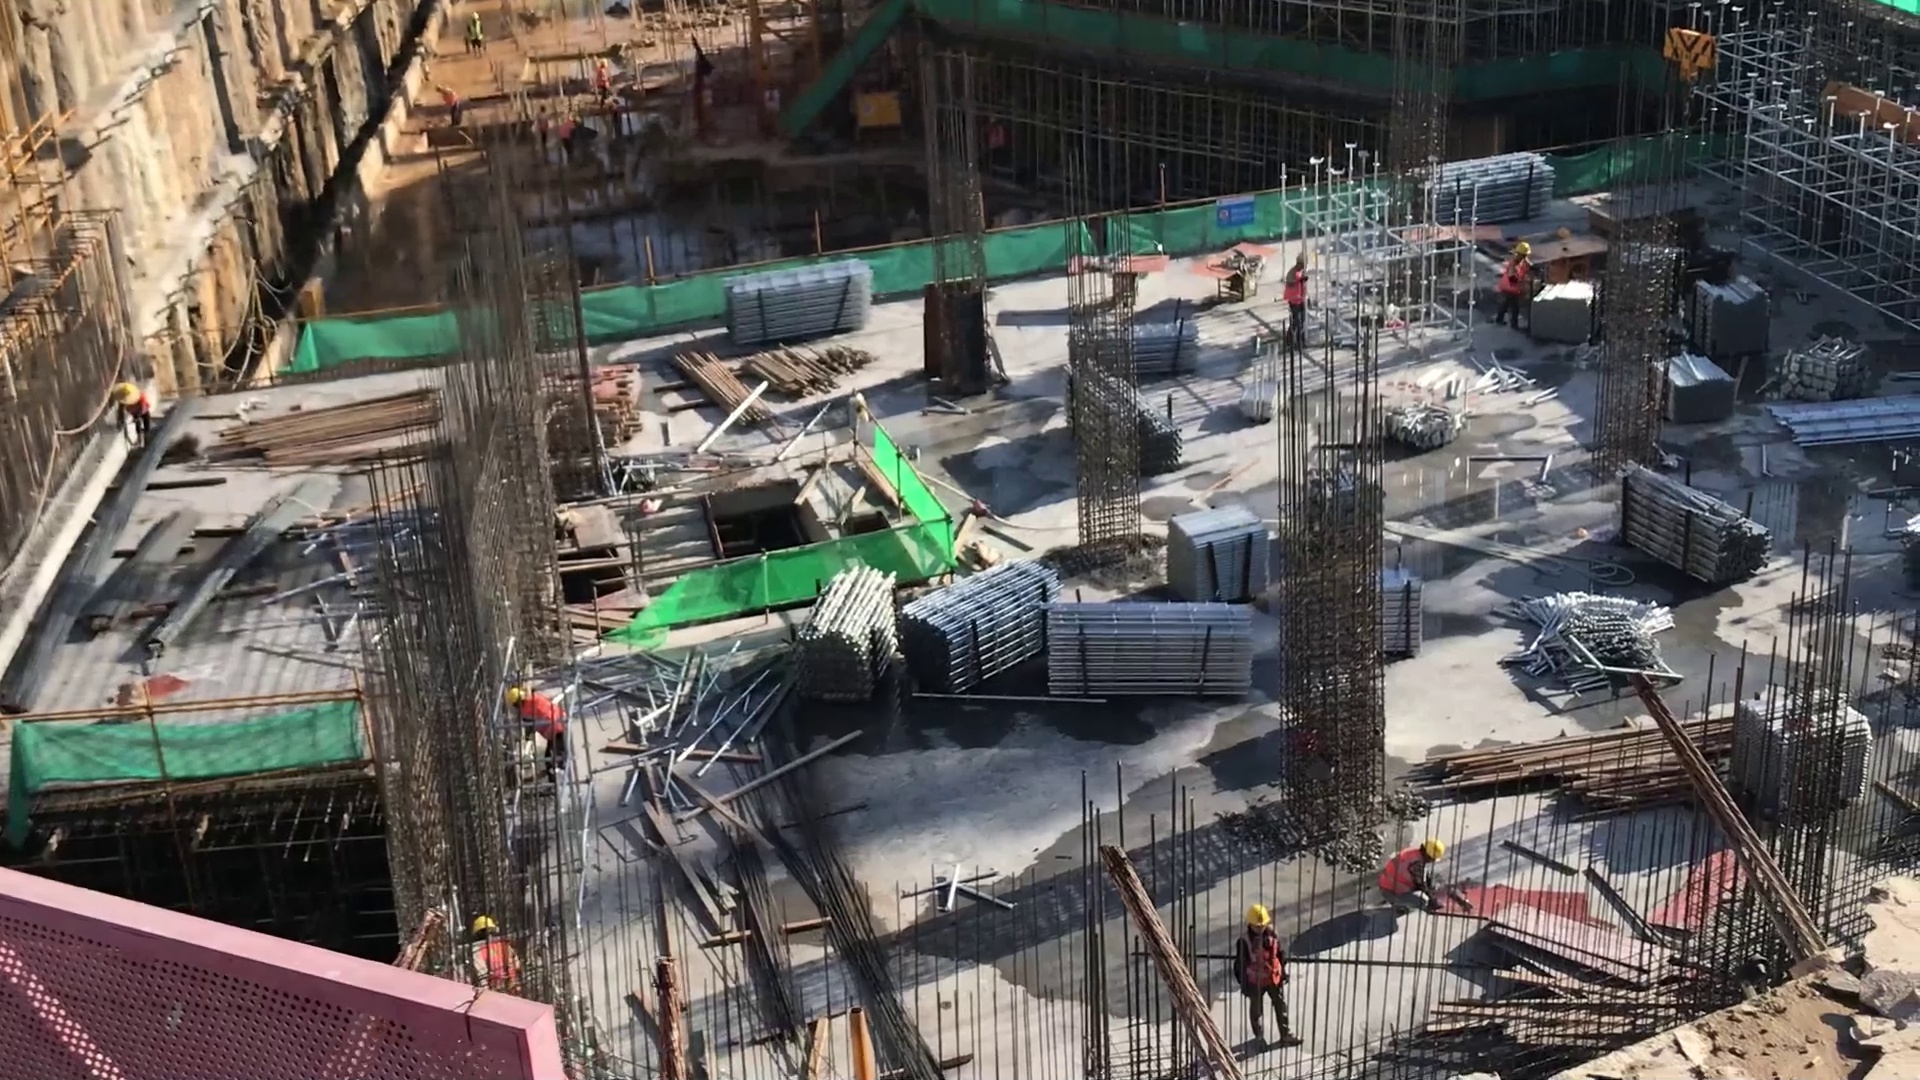cutter: (1071, 247, 1176, 310), (1191, 237, 1280, 301)
ebox: (851, 82, 908, 146)
helmet: (1240, 902, 1275, 929), (468, 911, 501, 939), (1420, 836, 1446, 867), (504, 685, 528, 713), (1513, 237, 1534, 260), (1292, 250, 1311, 270), (465, 10, 483, 24), (434, 82, 443, 97)
hook: (1653, 14, 1729, 105)
person: (1224, 899, 1309, 1053), (1375, 833, 1453, 924), (502, 683, 573, 777), (455, 912, 528, 1004), (1488, 237, 1536, 331), (104, 377, 162, 454), (1279, 250, 1320, 351), (434, 79, 467, 131), (463, 9, 486, 53)
scaffold: (1032, 583, 1261, 715), (894, 551, 1066, 710), (1608, 446, 1771, 589), (787, 554, 903, 706), (1155, 494, 1273, 617), (1418, 139, 1565, 235), (718, 256, 881, 341), (1694, 268, 1781, 394), (1645, 346, 1744, 422)
vest: (1235, 937, 1284, 991), (473, 940, 521, 994), (1378, 848, 1424, 900), (523, 691, 565, 741), (1496, 257, 1528, 300), (1283, 269, 1312, 309), (122, 392, 153, 421), (441, 86, 461, 112), (465, 24, 484, 44)
